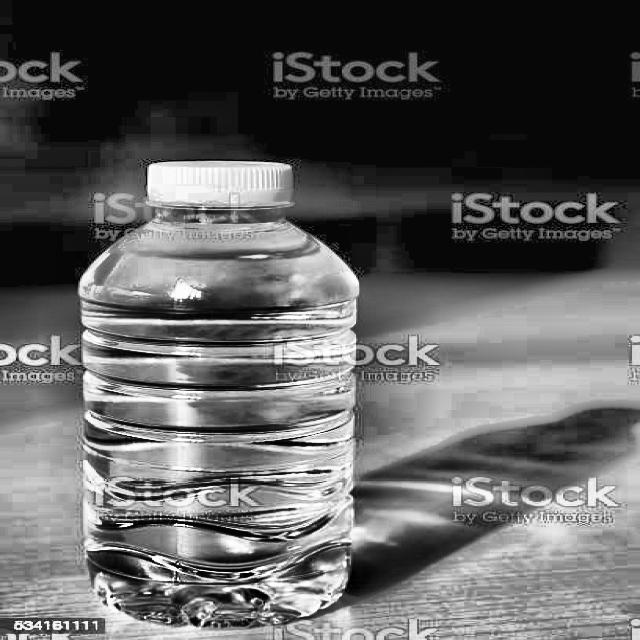waterbottle: (68, 147, 372, 633)
